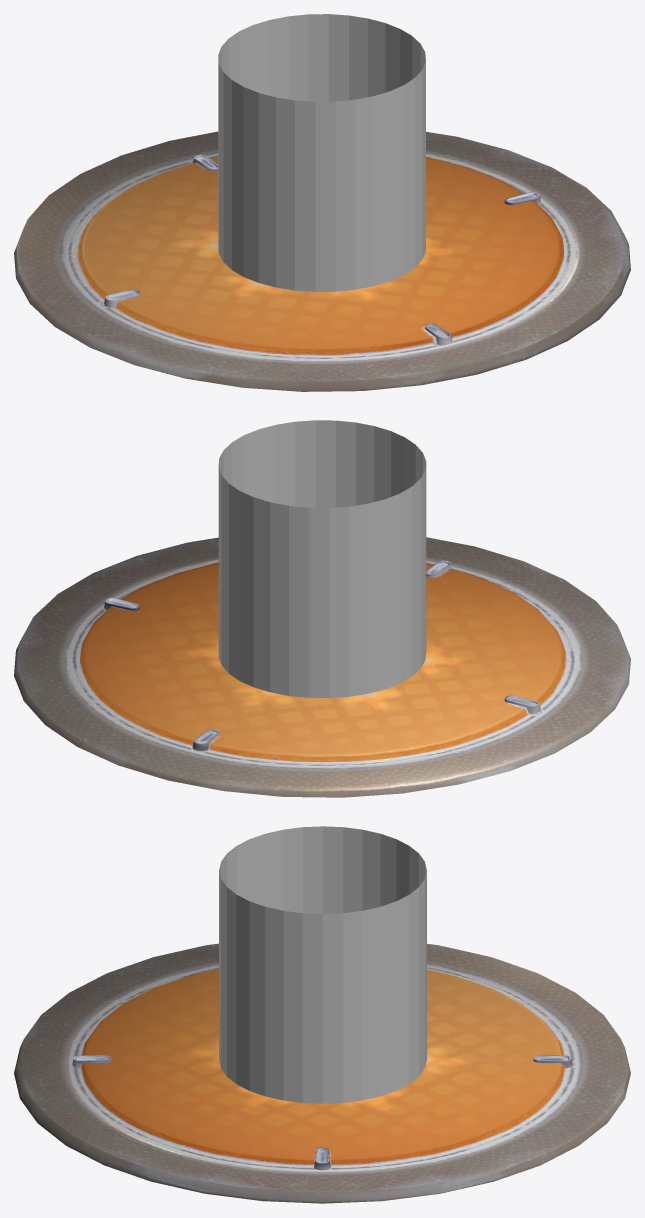
The model's file is pref_TPC_v2_NeutralScoreArea03_winter_orange_born_lv1.fbx.
3 views of the same model, one above another, from view 1: azimuth 30°, elevation 25°; view 2: azimuth 150°, elevation 25°; view 3: azimuth 270°, elevation 25° (orthographic).
Parts seen in each view (by area): view 1: sm_prop_platform06a_lv1, sm_fx_scorearea03_mesh_01_gp (1); view 2: sm_prop_platform06a_lv1, sm_fx_scorearea03_mesh_01_gp (1); view 3: sm_prop_platform06a_lv1, sm_fx_scorearea03_mesh_01_gp (1).
Boxes of the visible parts, x1,y1,x2,y2 form: sm_prop_platform06a_lv1: [14, 131, 630, 391]; sm_fx_scorearea03_mesh_01_gp (1): [218, 14, 425, 291]; sm_prop_platform06a_lv1: [14, 537, 630, 797]; sm_fx_scorearea03_mesh_01_gp (1): [218, 420, 426, 698]; sm_prop_platform06a_lv1: [14, 943, 630, 1203]; sm_fx_scorearea03_mesh_01_gp (1): [219, 826, 426, 1103].
Bounding box in the file's own units: 7.46 × 3.07 × 7.46.
